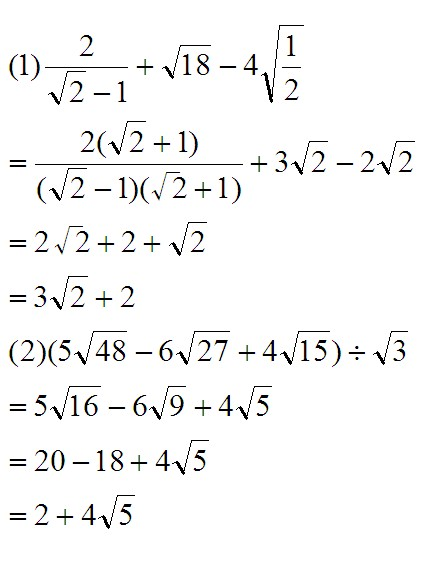division: (33, 159, 242, 170), (44, 63, 126, 72), (277, 64, 302, 74)
sqrt: (263, 21, 298, 105), (162, 41, 214, 81), (283, 329, 328, 370), (52, 384, 99, 423), (80, 328, 126, 367), (181, 328, 227, 367), (49, 273, 94, 312), (372, 329, 411, 367), (108, 118, 145, 158), (236, 382, 273, 422), (171, 435, 206, 477), (52, 66, 86, 105), (103, 491, 136, 529), (48, 166, 80, 205), (153, 383, 186, 420), (153, 170, 191, 201), (293, 138, 328, 171), (383, 138, 415, 174), (174, 220, 205, 255), (58, 225, 86, 253)
